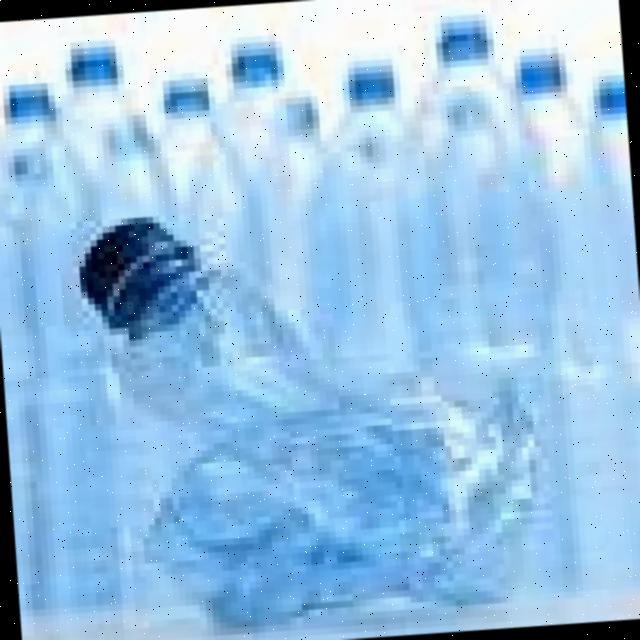bottle: (70, 190, 578, 640)
cap: (66, 205, 209, 328), (202, 26, 203, 28)
